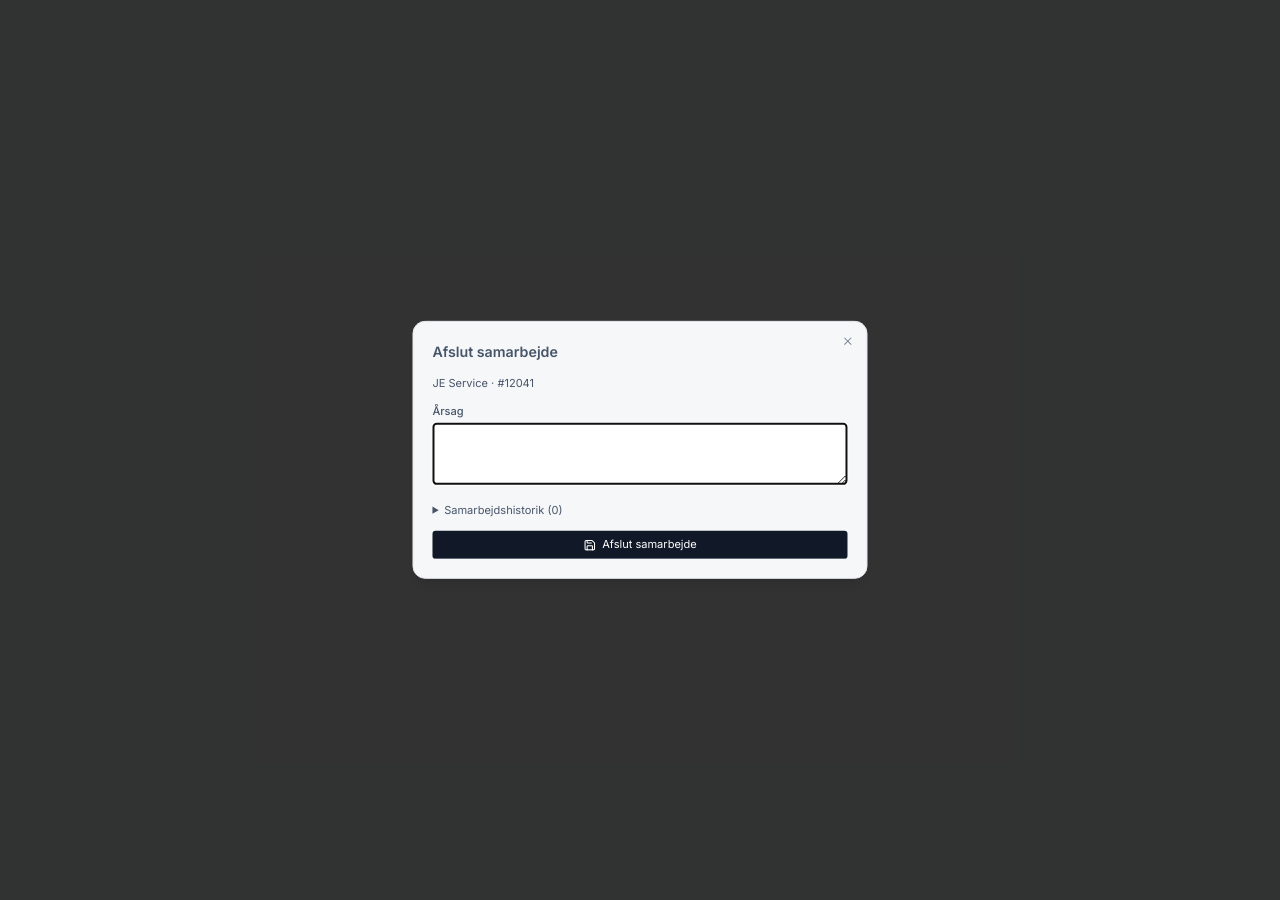
Test: permanent Backend cooperation actions › does not close on failure and keeps one idempotency key for unchanged retry
Later steps or results of the test are not shown.
Type "End request" into the text box labelled "Årsag" at (640, 454), box [432, 423, 848, 485]
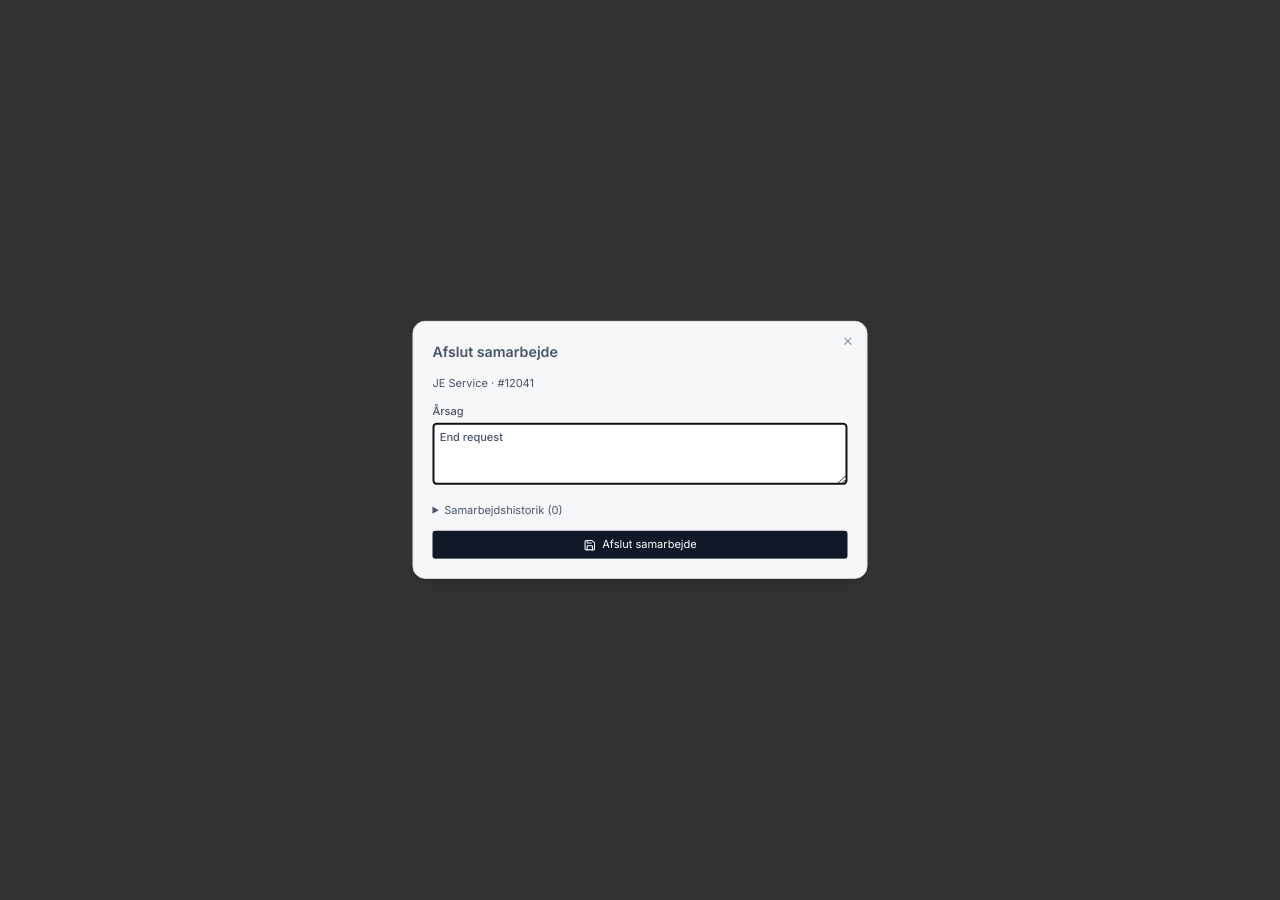
Click the button "Afslut samarbejde" at (640, 545), box [432, 531, 848, 559]
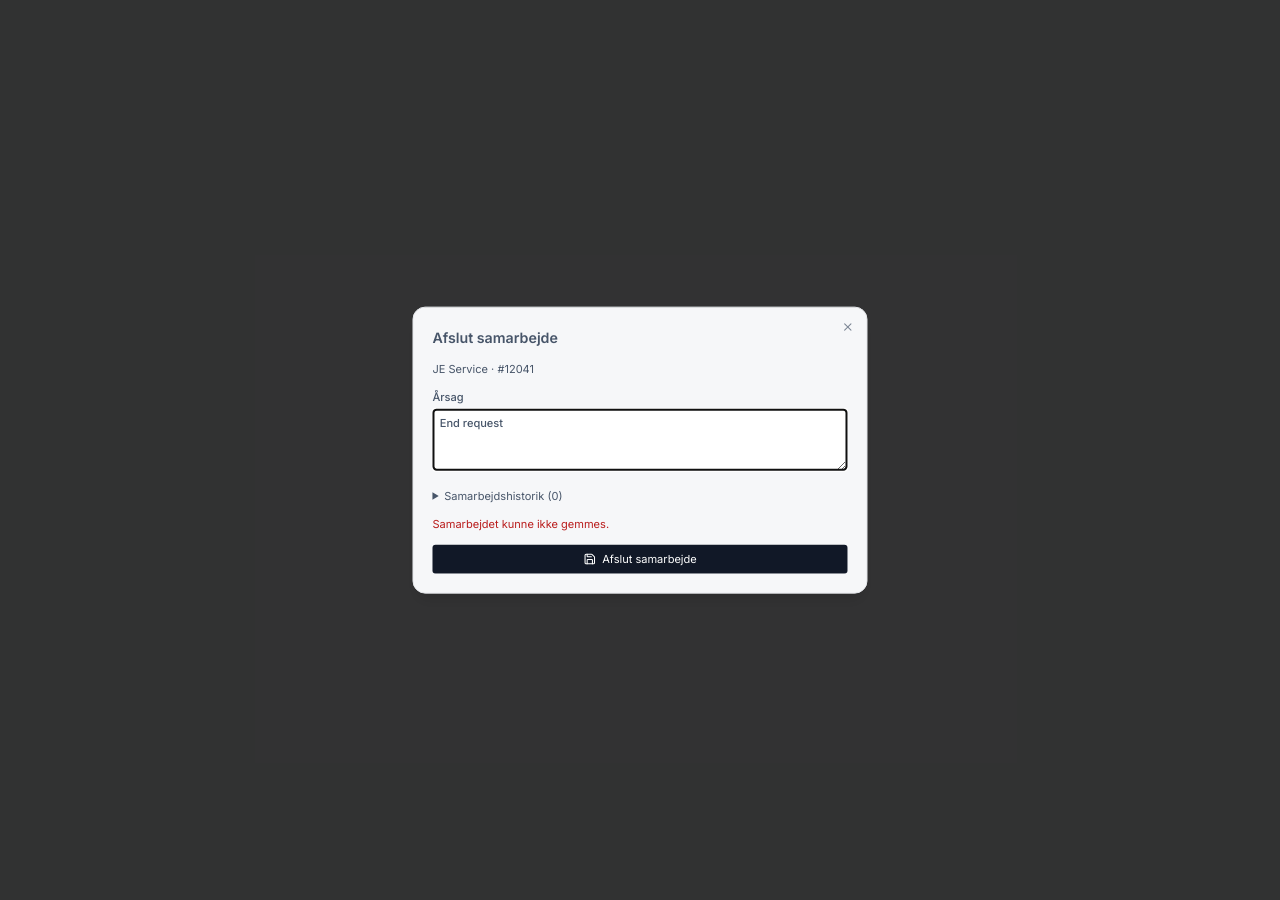
Check: the message "Samarbejdet kunne ikke gemmes." is shown, box [432, 517, 609, 531]
